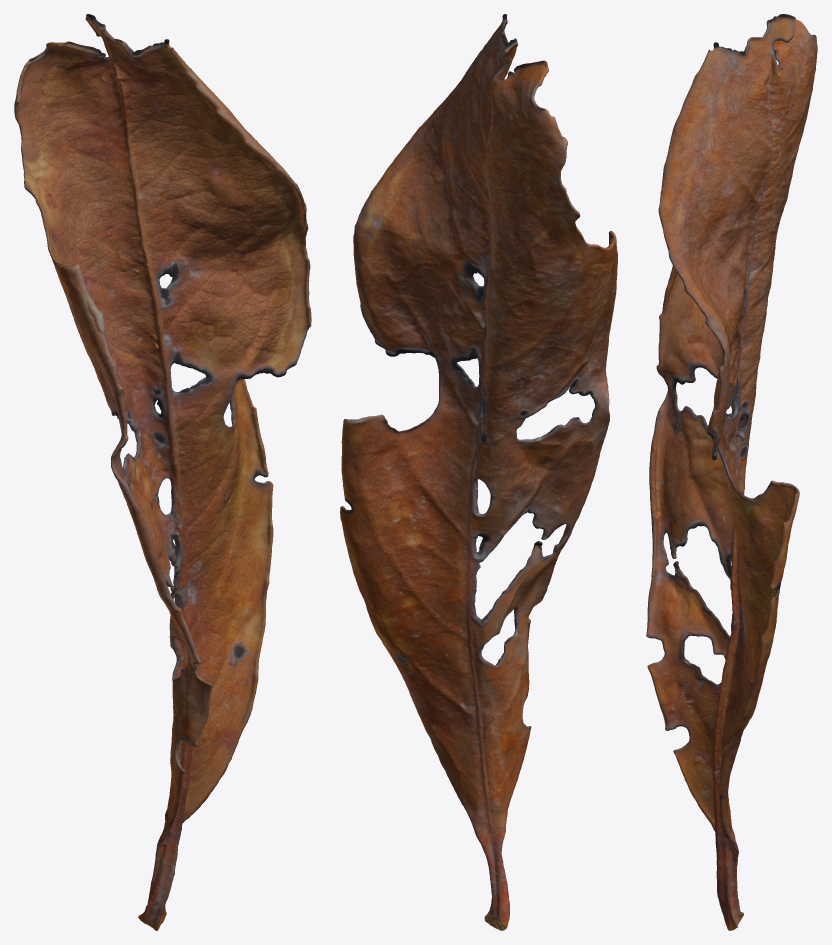
The model's file is foglia.obj.
3 views of the same model, side by side, from view 1: azimuth 30°, elevation 25°; view 2: azimuth 150°, elevation 25°; view 3: azimuth 270°, elevation 25° (orthographic). The views are drawn at different scales.
Size of the model in its own units: 1.39 by 4.73 by 0.8183.
Materials: 1 (1 with a texture image).
